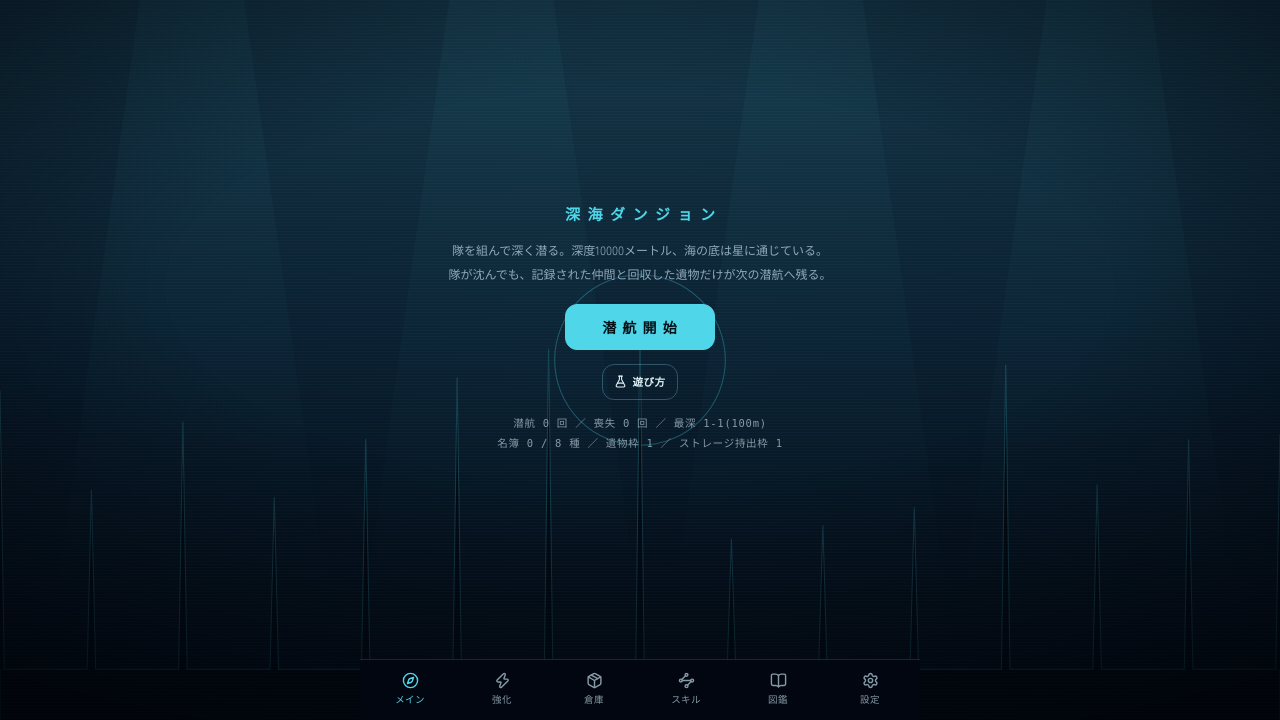
Test: 戦闘前の準備フェーズ › 新しく潜航を開始すると、いきなり戦闘にはならず準備フェーズになる
What coordinates should you click on to do the following:
click the button "潜 航 開 始"
I would click on:
 (640, 327)
Its box is [565,304,715,350].
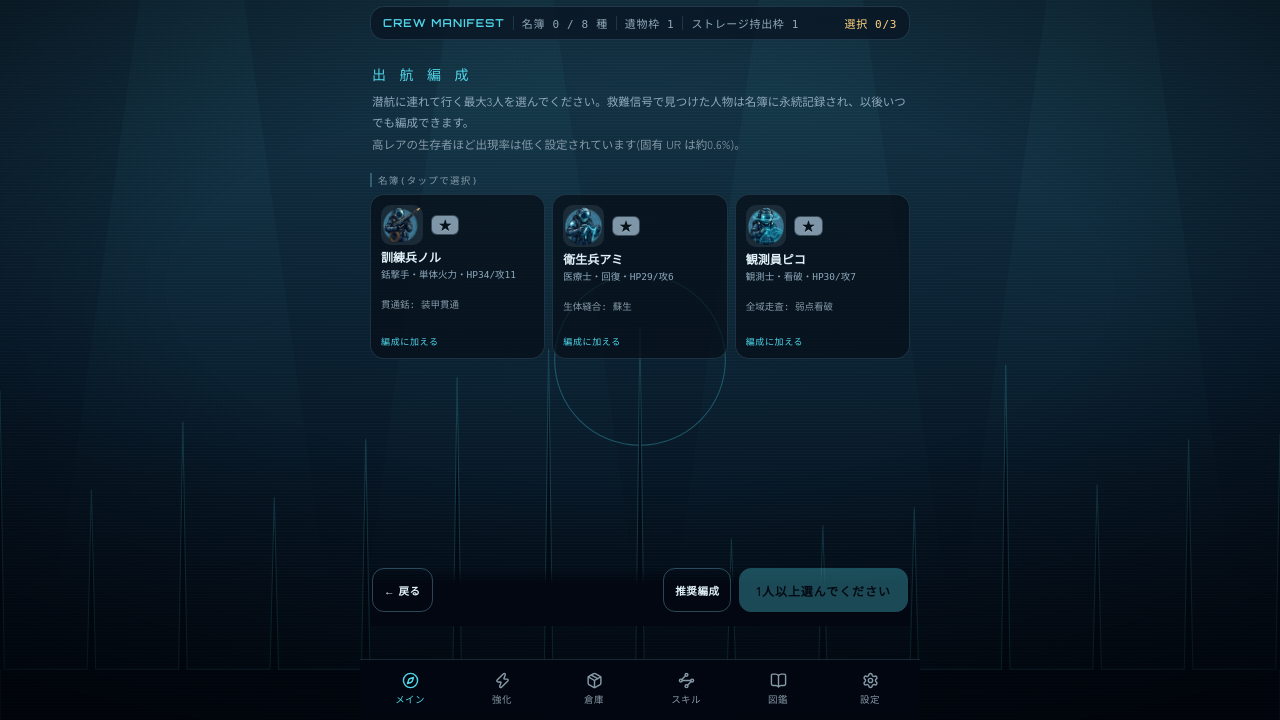
What coordinates should you click on to do the following:
click the button "推奨編成"
I would click on:
 (697, 590)
Its box is [663,568,731,612].
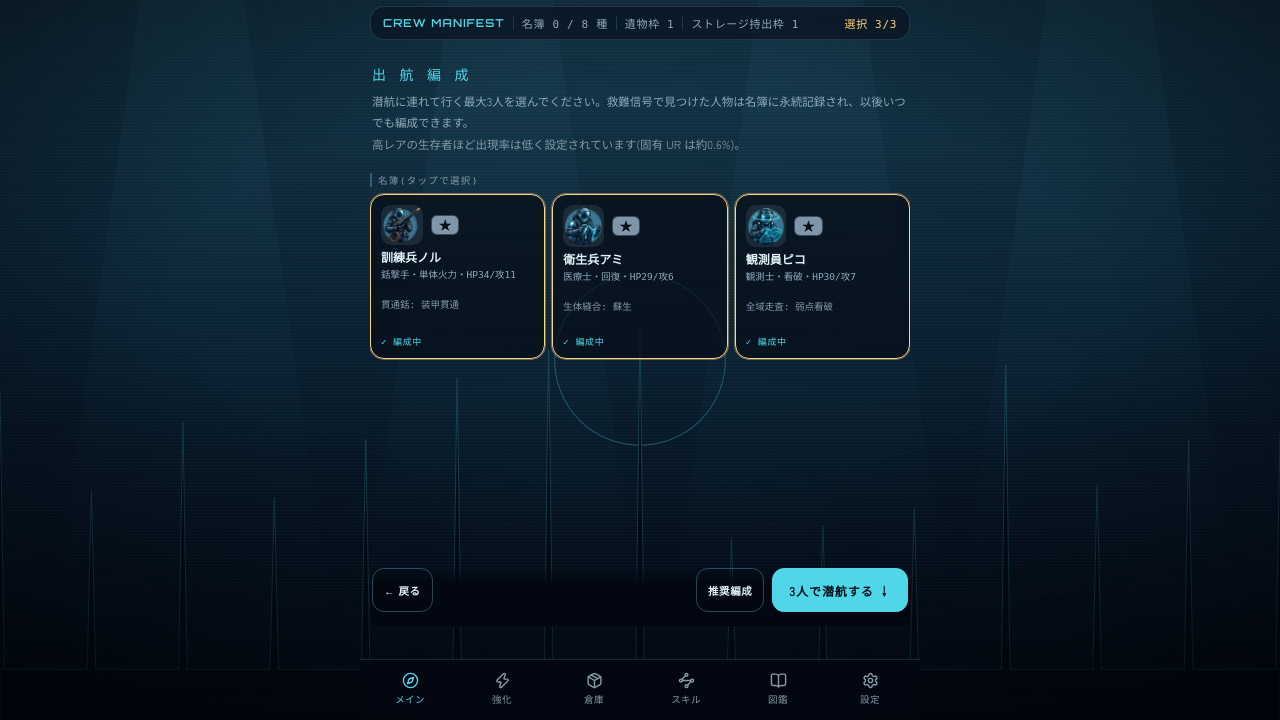
What coordinates should you click on to do the following:
click the button "3人で潜航する ↓"
I would click on:
 (840, 590)
Its box is [772,568,908,612].
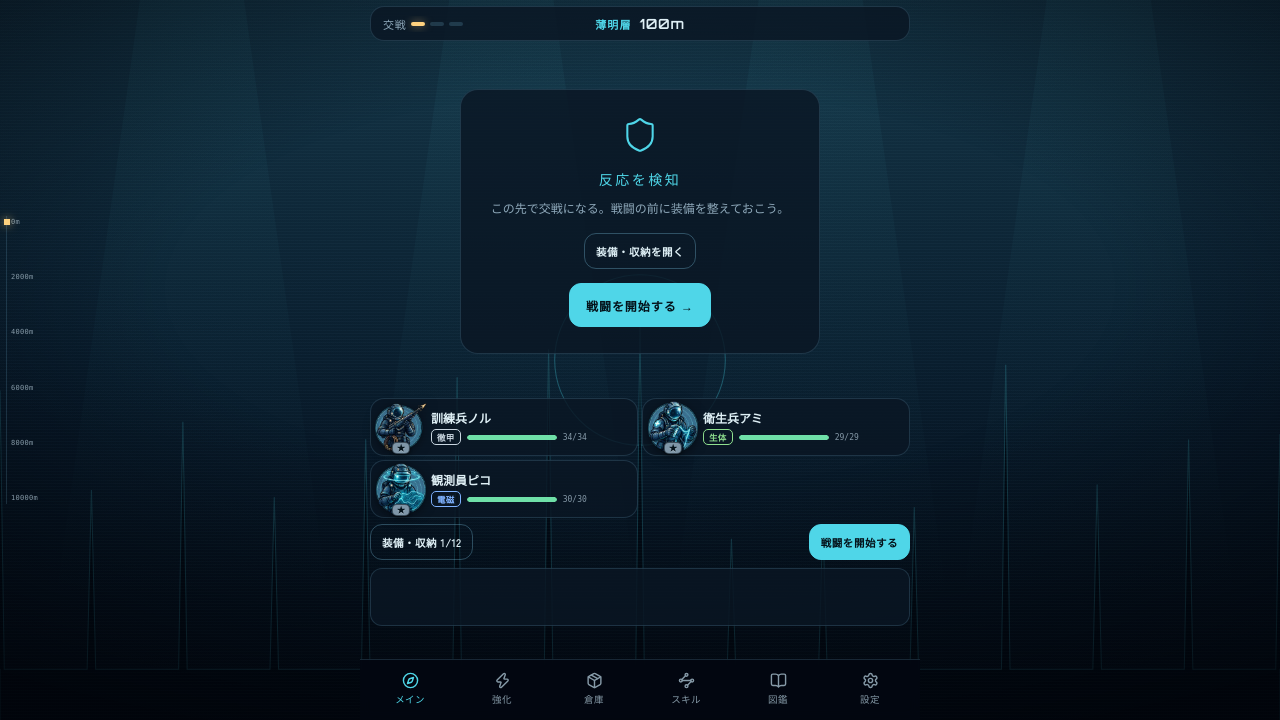
Result: the text "戦闘を開始する" is shown at [569,283,711,327]
